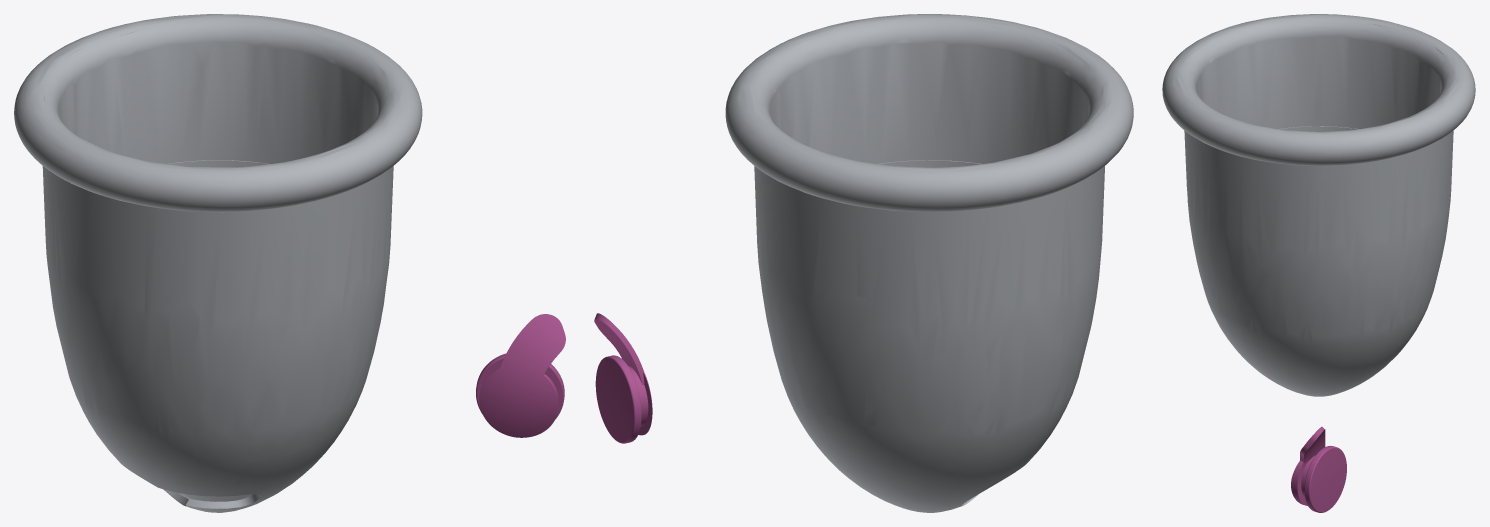
File: concept-extraction-valve.glb
3 views of the same model, side by side, from view 1: azimuth 30°, elevation 25°; view 2: azimuth 150°, elevation 25°; view 3: azimuth 270°, elevation 25° (orthographic). The views are drawn at different scales.
Parts seen in each view (by area): view 1: menstrual-cup-valve-0, cup-valve-button-0, cup-valve-button-1; view 2: menstrual-cup-valve-0, cup-valve-button-1, cup-valve-button-0; view 3: menstrual-cup-valve-0, cup-valve-button-1, cup-valve-button-0.
Part boxes in pixels (box(x1,y1,x2,y2)): menstrual-cup-valve-0: box(14, 14, 422, 512); cup-valve-button-0: box(479, 314, 565, 437); cup-valve-button-1: box(476, 353, 564, 419); menstrual-cup-valve-0: box(725, 14, 1133, 512); cup-valve-button-1: box(595, 355, 641, 443); cup-valve-button-0: box(594, 313, 652, 435); menstrual-cup-valve-0: box(1162, 14, 1475, 396); cup-valve-button-1: box(1304, 445, 1346, 512); cup-valve-button-0: box(1291, 426, 1325, 505).
Size of the model in its own units: 0.0672 by 0.052 by 0.046.
